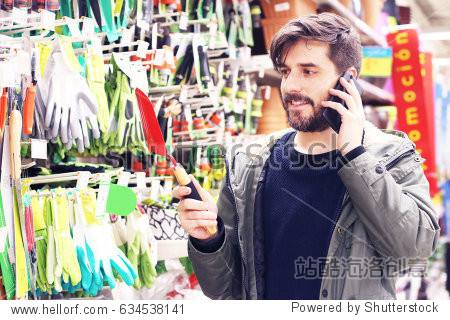phone: (323, 72, 362, 136)
talk: (278, 58, 363, 148)
